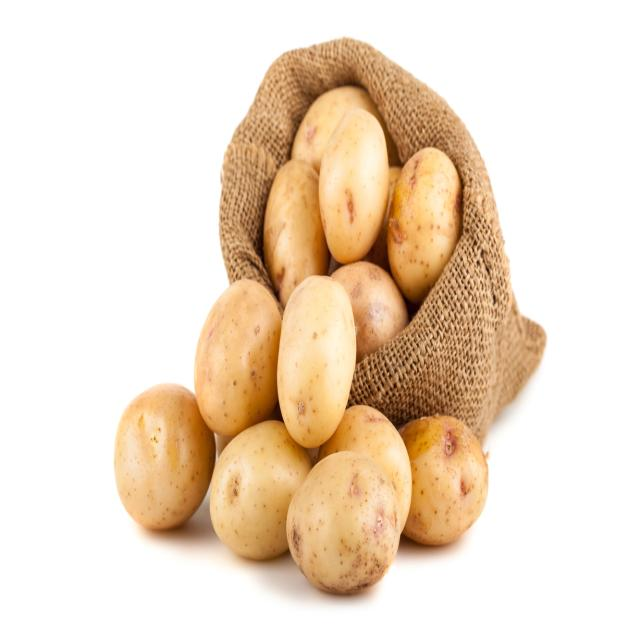potato: (323, 377, 415, 561), (281, 446, 400, 588), (114, 369, 214, 536), (208, 405, 310, 561), (389, 400, 492, 552), (195, 272, 281, 448), (280, 262, 361, 444), (313, 98, 392, 266), (388, 136, 468, 301), (253, 155, 333, 310)
